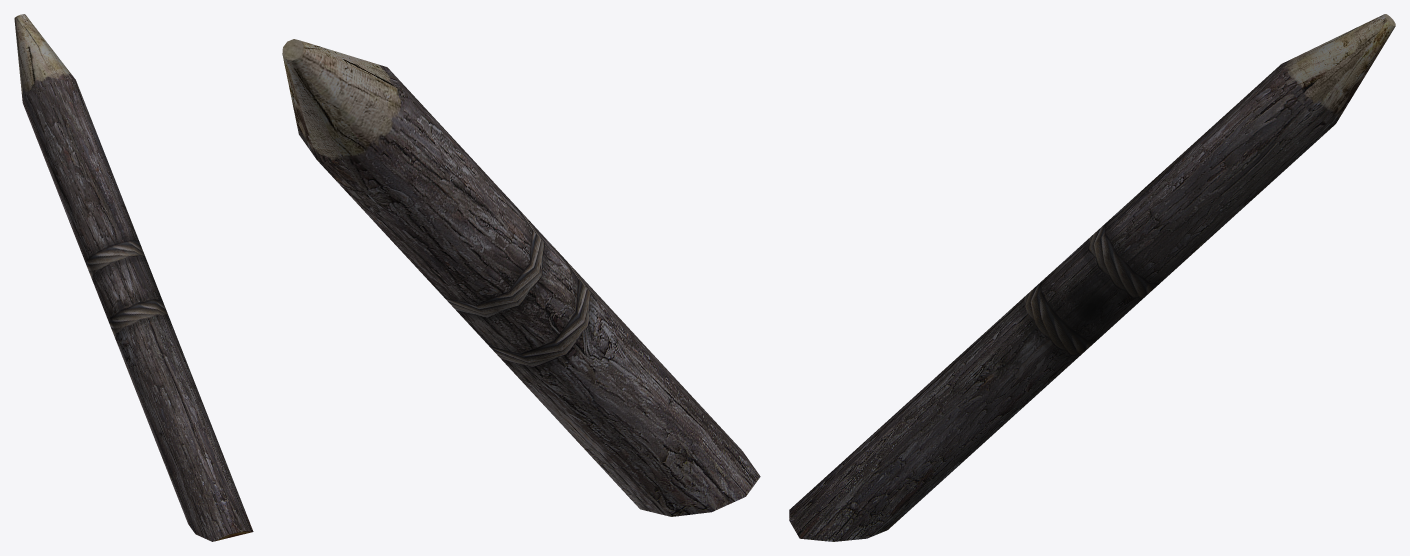
The model's file is singespike.FBX.
The picture shows the model from 3 angles, left to right: view 1: azimuth 30°, elevation 25°; view 2: azimuth 150°, elevation 25°; view 3: azimuth 270°, elevation 25°; orthographic projection. The views are drawn at different scales.
Visible parts, largest first — view 1: SingleSpike; view 2: SingleSpike; view 3: SingleSpike.
Boxes of the visible parts, bbox=[...] form: SingleSpike: bbox=[14, 14, 253, 541]; SingleSpike: bbox=[282, 39, 760, 516]; SingleSpike: bbox=[789, 14, 1395, 541].
Size of the model in its own units: 7.87 by 54.59 by 58.86.
